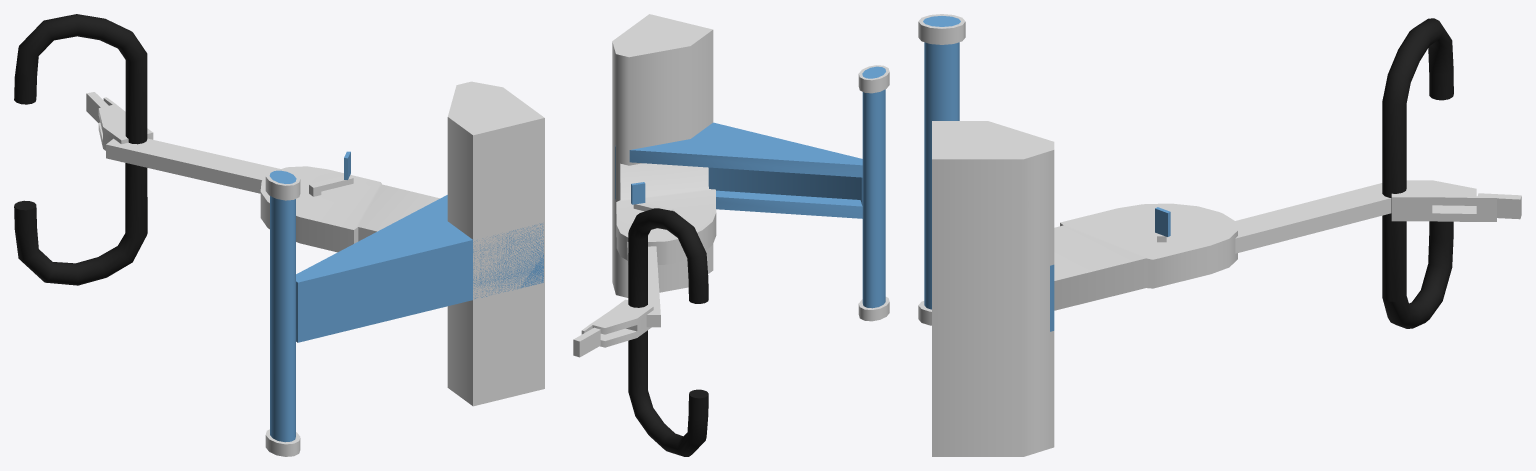
3 renders of one model, left to right at view 1: azimuth 30°, elevation 25°; view 2: azimuth 150°, elevation 25°; view 3: azimuth 270°, elevation 25°, orthographic. The views are drawn at different scales.
Visible parts, largest first — view 1: Cube.001; view 2: Cube.001; view 3: Cube.001.
Part boxes in pixels (bbox=[...]): Cube.001: bbox=[14, 14, 544, 456]; Cube.001: bbox=[573, 14, 889, 456]; Cube.001: bbox=[918, 14, 1521, 456].
Size of the model in its own units: 73 by 63.69 by 117.
